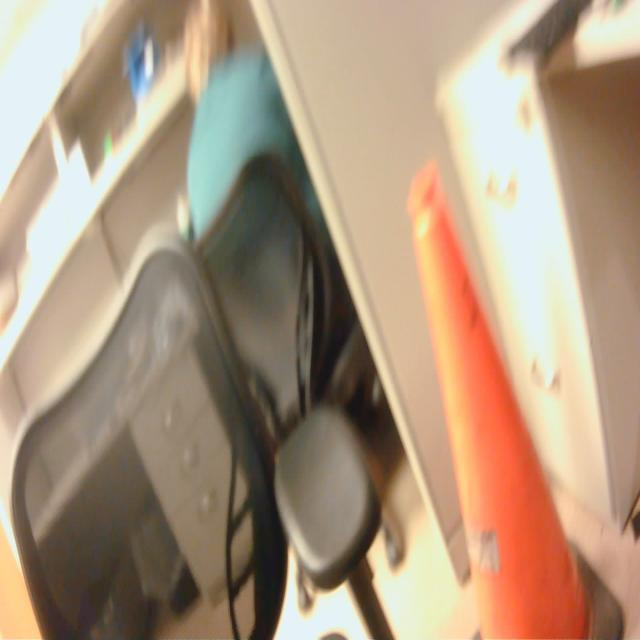traffic cone: (402, 152, 630, 640)
